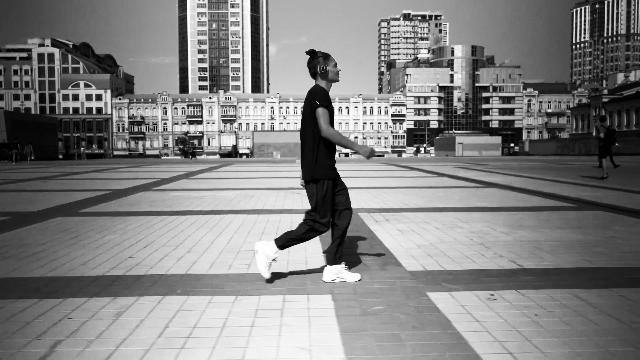berjalan: (254, 48, 376, 294)
